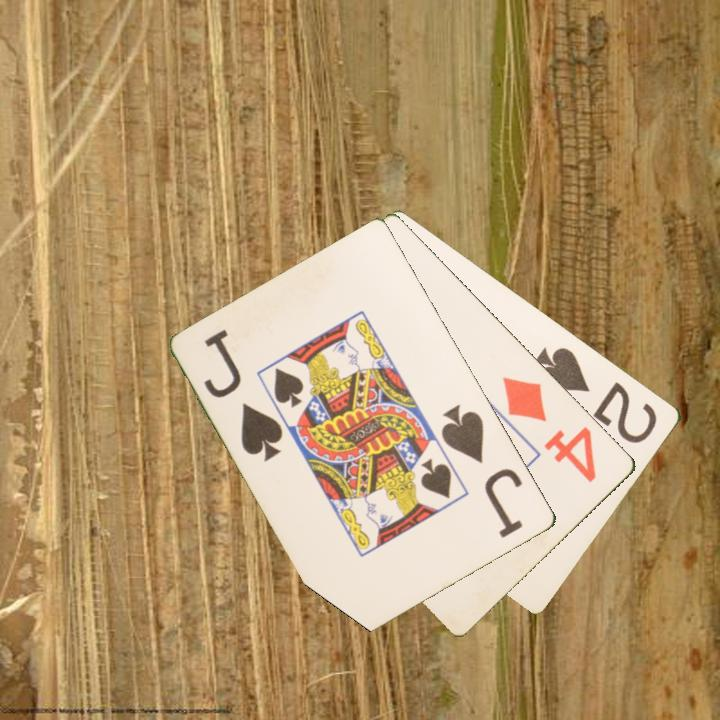2s: (530, 343, 661, 447)
4d: (499, 373, 600, 485)
Js: (438, 401, 527, 541), (200, 325, 287, 465)
